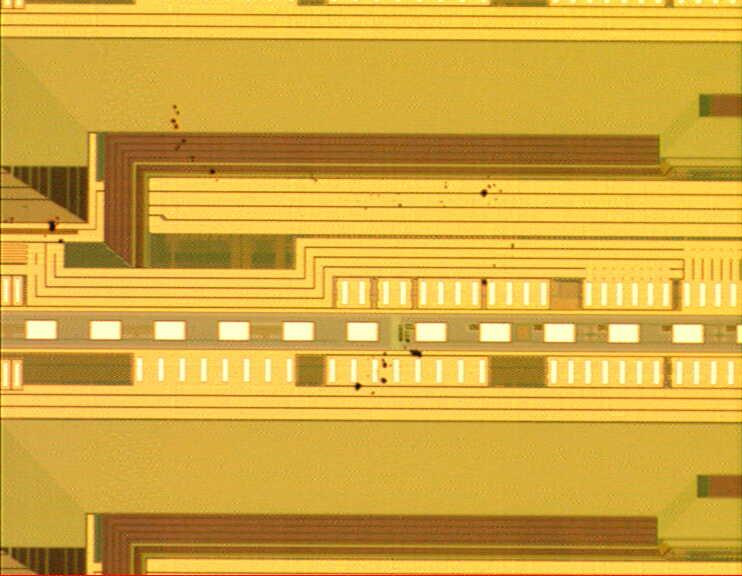PO CONTAMINATION: (1, 103, 518, 398)
